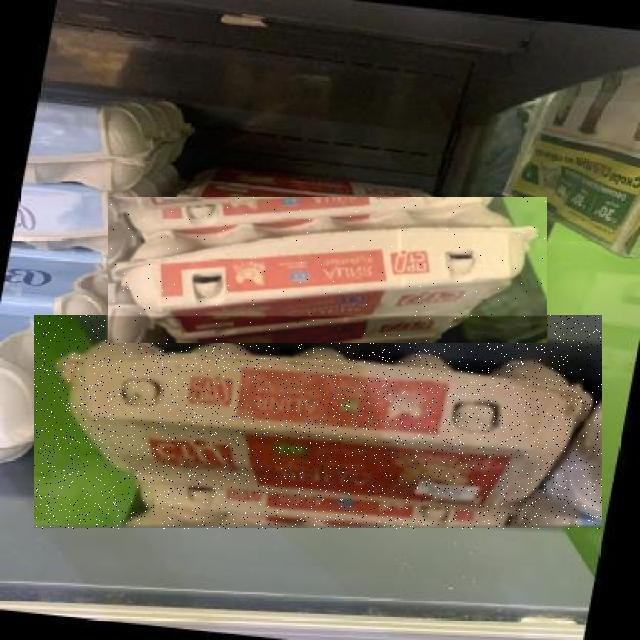Eggs: (35, 316, 603, 530), (108, 197, 547, 343)
